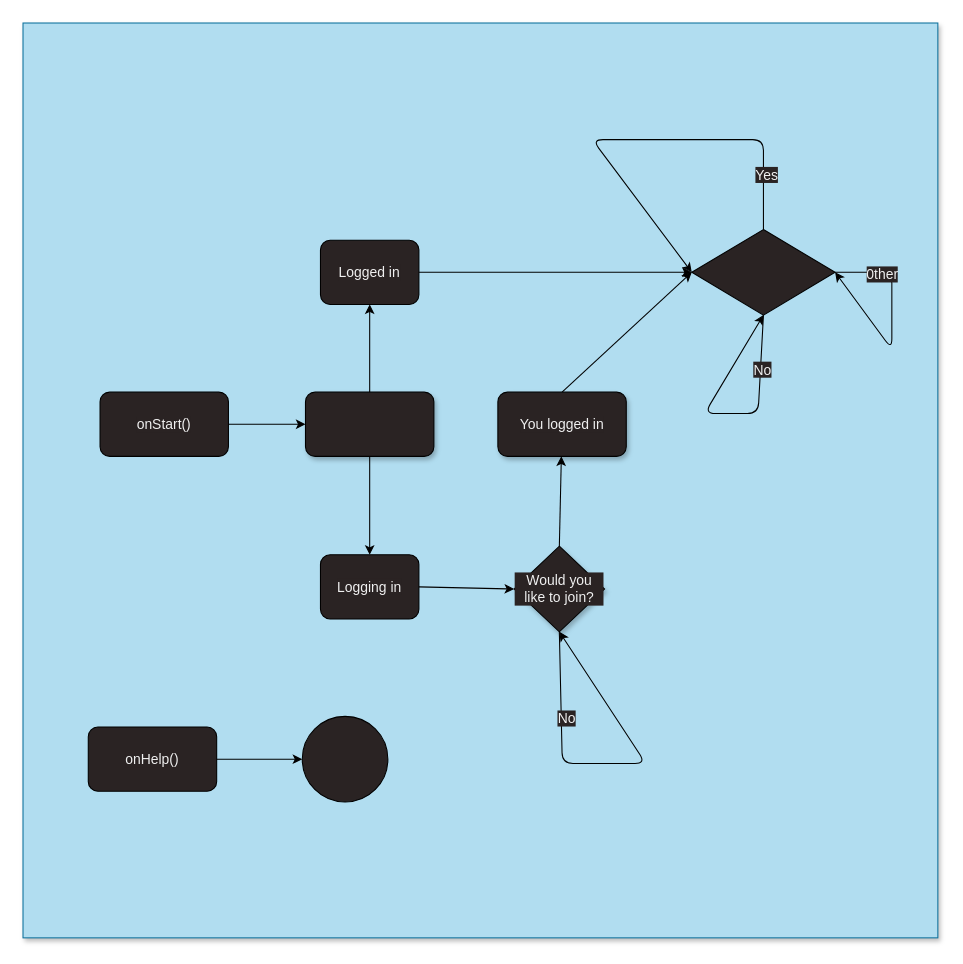
Some shapes in this 963 by 964 pixel diagram are drawn without their labels. The centre of each missing label's shape, as x and y in pixels:
askNextChapter(): (x=763, y=271)
I can't help you: (x=344, y=758)
Logged in?: (x=370, y=425)
